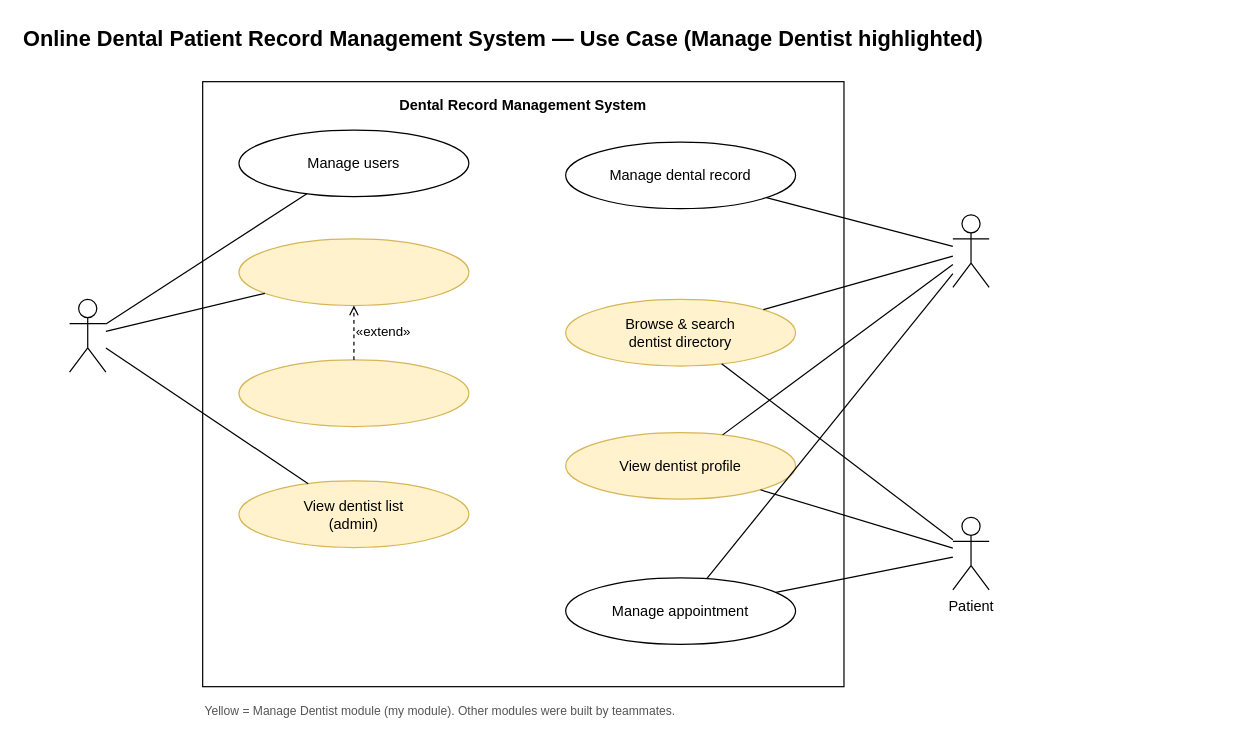
This 1251x743 diagram has some shape labels left out. Here are the shapes that lost their labels. From the top down, the centre of each, then its label:
the point at 970,250: Dentist
the point at 353,272: Create / edit / delete dentist profile
the point at 87,335: Admin
the point at 353,393: Log denied access
